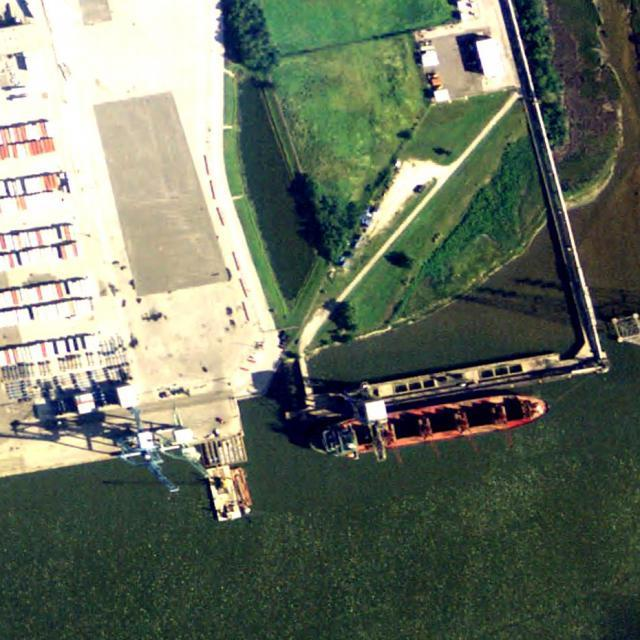Cargo: (323, 385, 548, 460)
Dock: (304, 340, 615, 427)
